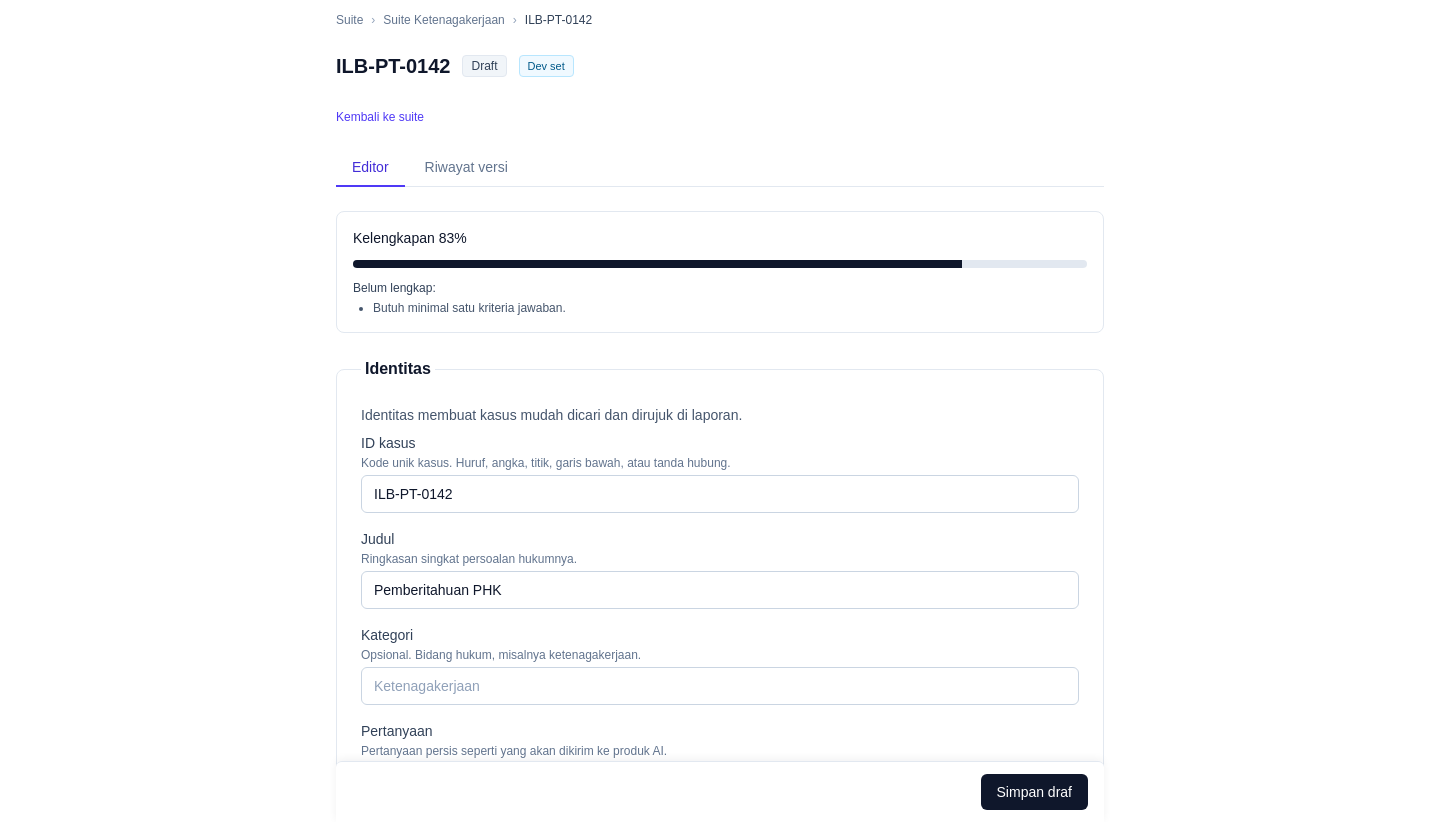
Test: EditCasePage saving › puts the edited case, shows a toast, and refills the form from the server reply
Clear the field labelled "Judul" at (720, 590), box left=361, top=571, right=1079, bottom=609
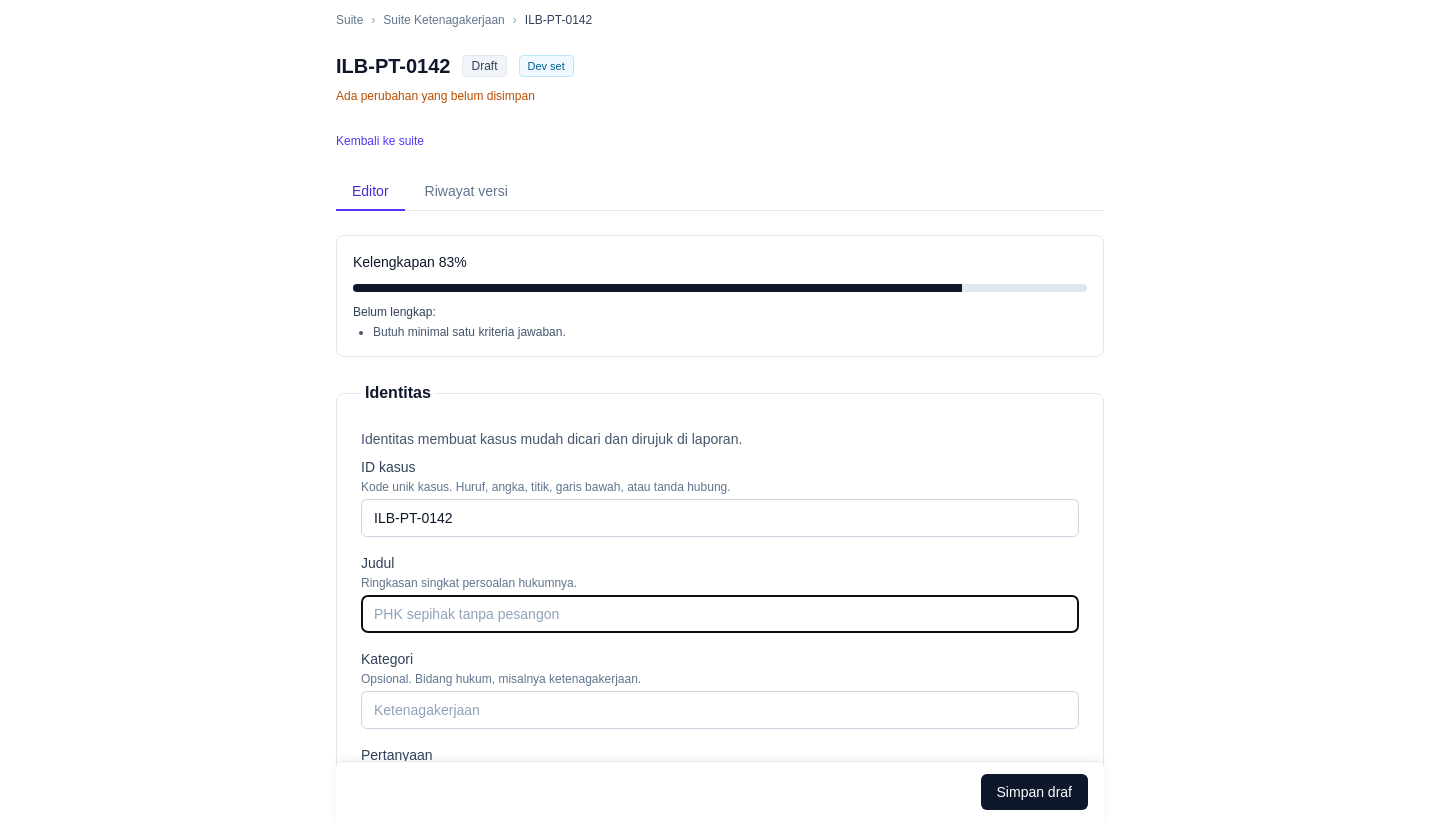
Type "Judul baru" into the field labelled "Judul".
click(720, 614); type("Judul baru")  # box left=361, top=595, right=1079, bottom=633
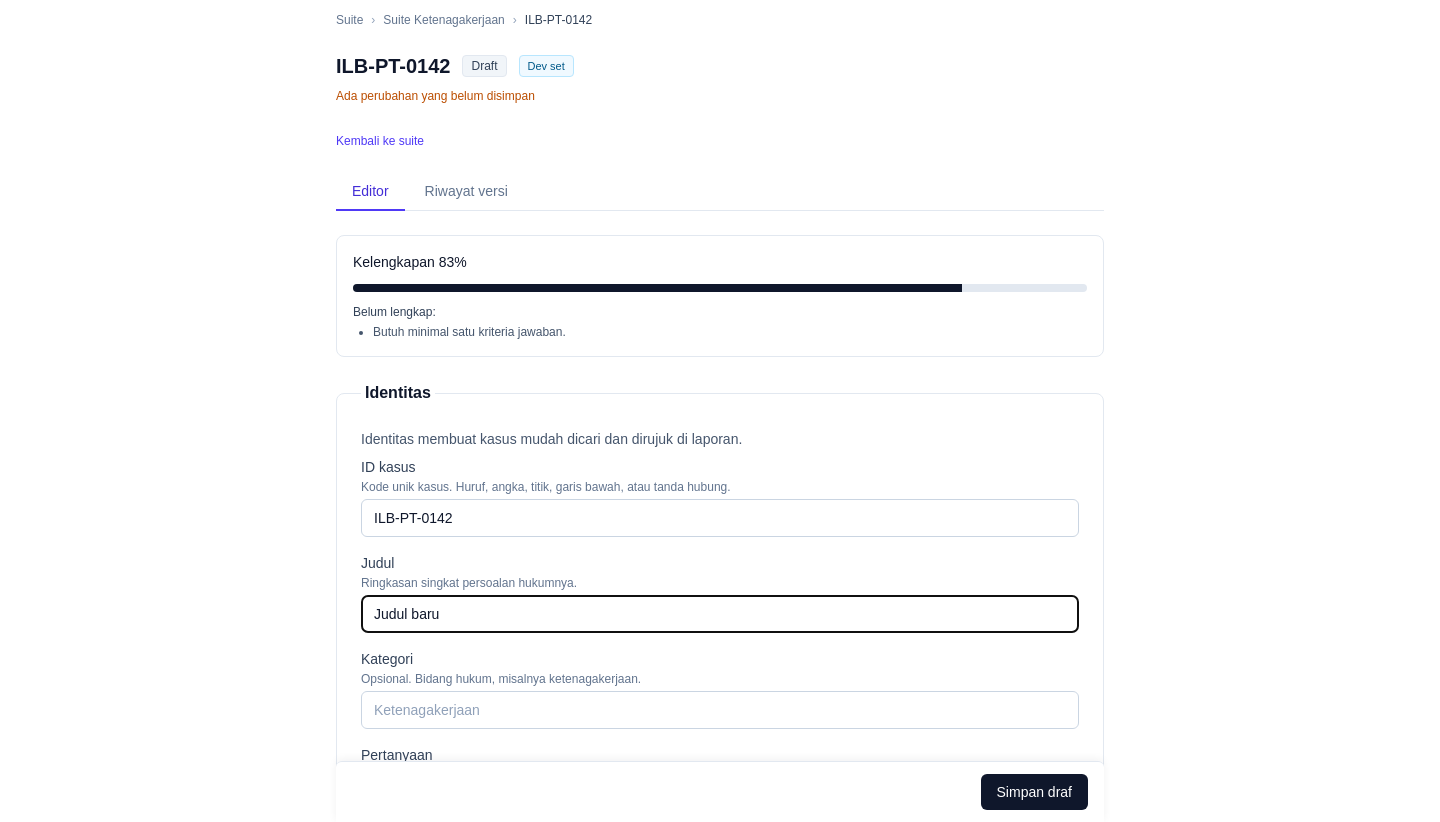
Click the button "Simpan draf".
click(1034, 792)  # box left=980, top=774, right=1088, bottom=810
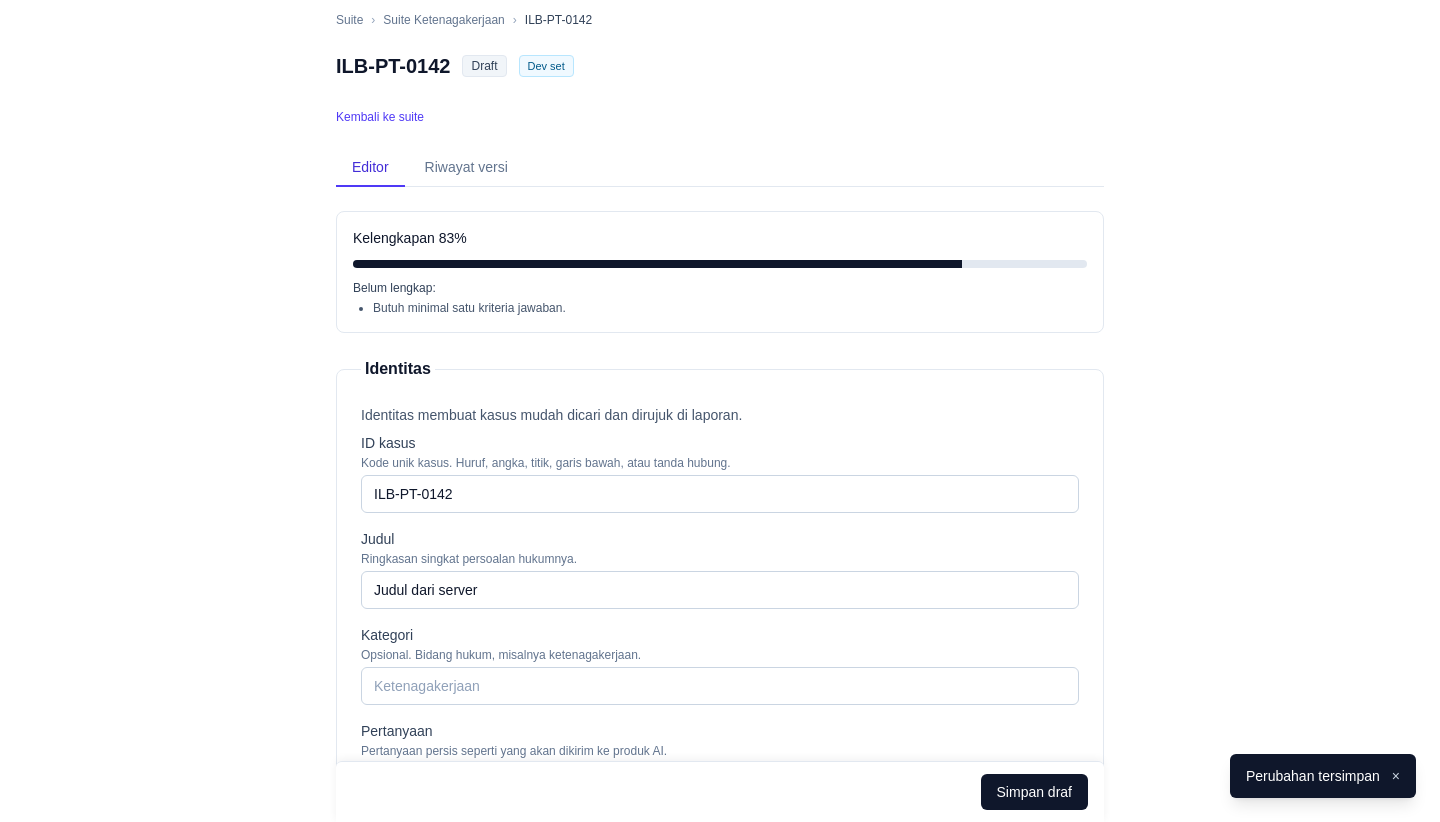
Check: the message named "Notifikasi" shows "Perubahan tersimpan", box left=1246, top=768, right=1380, bottom=784
Check: the field labelled "Judul" holds "Judul dari server", box left=361, top=571, right=1079, bottom=609
